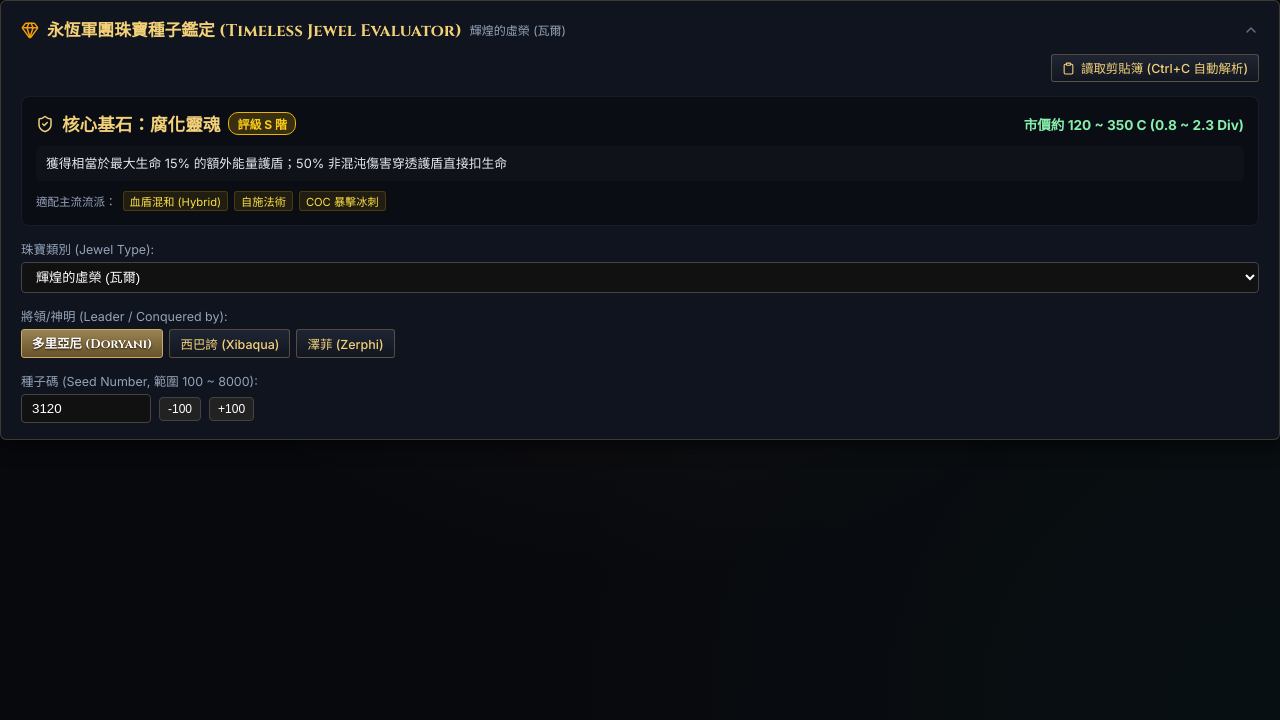
Scenario: TimelessJewelCard › switches jewel type when selecting from dropdown
Select "致命的驕傲 (卡魯)" in the dropdown at (640, 278), box [21,262,1259,293]
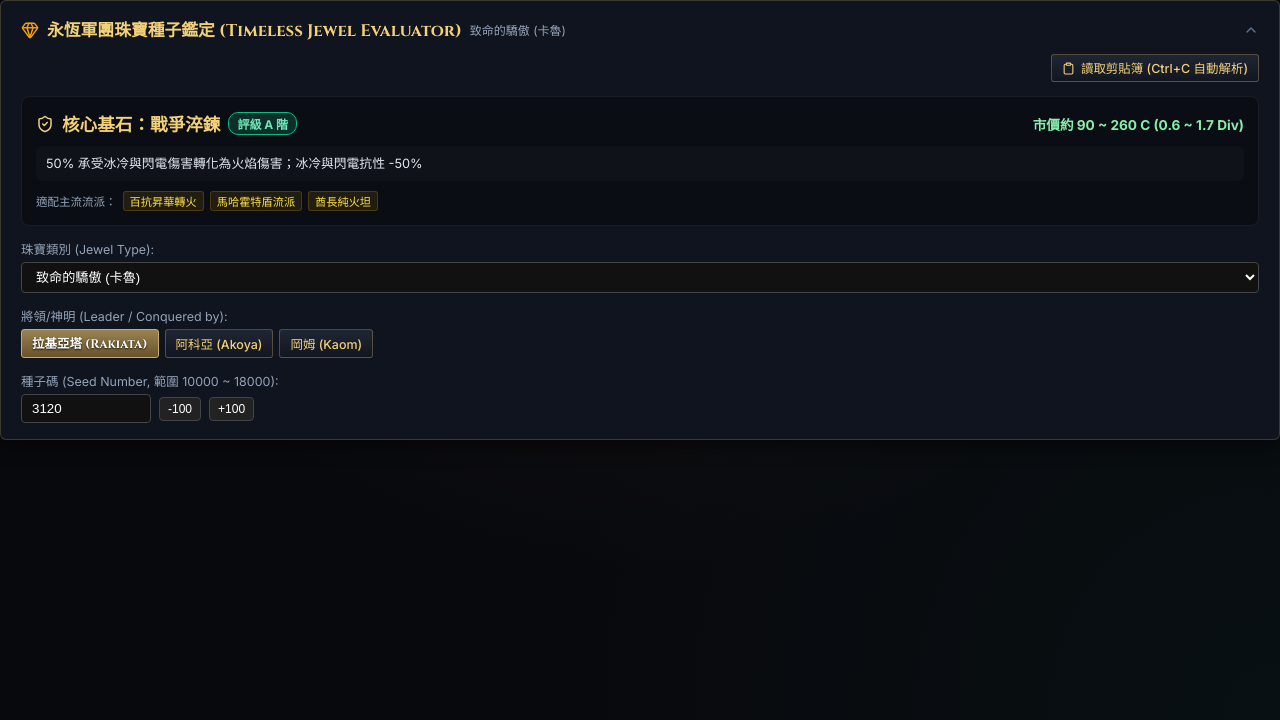
Now the button "拉基亞塔 (Rakiata)" is shown, box [21,329,158,358]
Now the text "核心基石：戰爭淬鍊" is shown, box [62,111,220,136]
